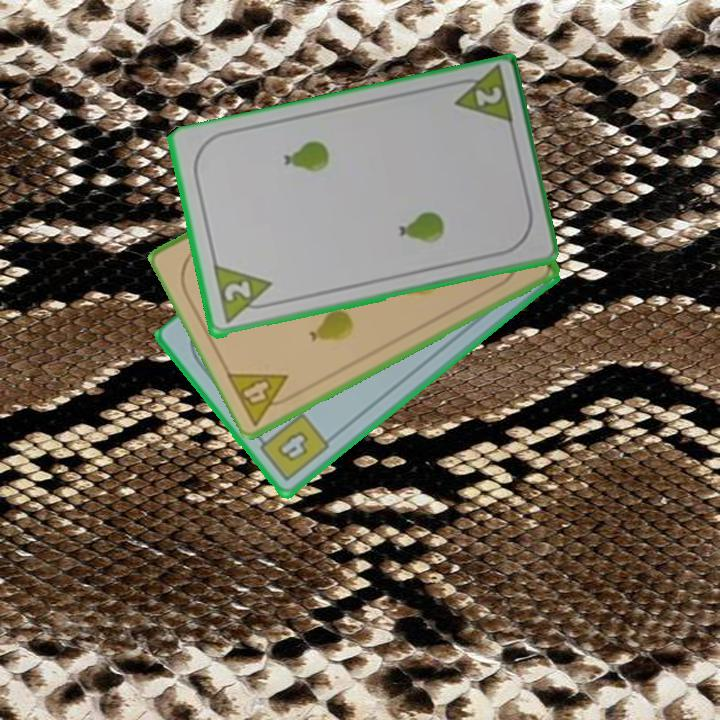2p: (209, 262, 278, 328), (471, 83, 505, 110)
4b: (252, 409, 333, 485)
4p: (223, 369, 303, 428)
